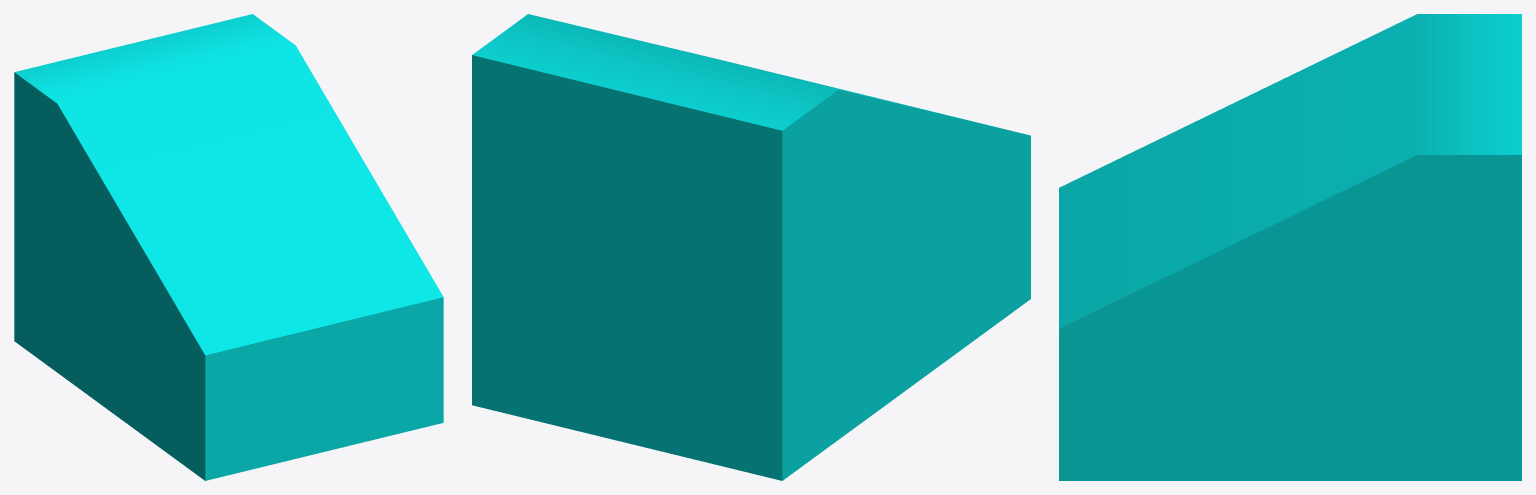
File: SM_Env_Rock_Stairs_02_Collision.fbx
3 renders of one model, left to right at view 1: azimuth 30°, elevation 25°; view 2: azimuth 150°, elevation 25°; view 3: azimuth 270°, elevation 25°, orthographic. The views are drawn at different scales.
Visible parts, largest first — view 1: SM_Env_Rock_Stairs_02_Collision; view 2: SM_Env_Rock_Stairs_02_Collision; view 3: SM_Env_Rock_Stairs_02_Collision.
Part boxes in pixels (x1,y1,x2,y2): SM_Env_Rock_Stairs_02_Collision: (14, 14, 443, 480); SM_Env_Rock_Stairs_02_Collision: (472, 14, 1030, 480); SM_Env_Rock_Stairs_02_Collision: (1059, 14, 1521, 480).
Bounding box in the file's own units: 259 × 279 × 359.
